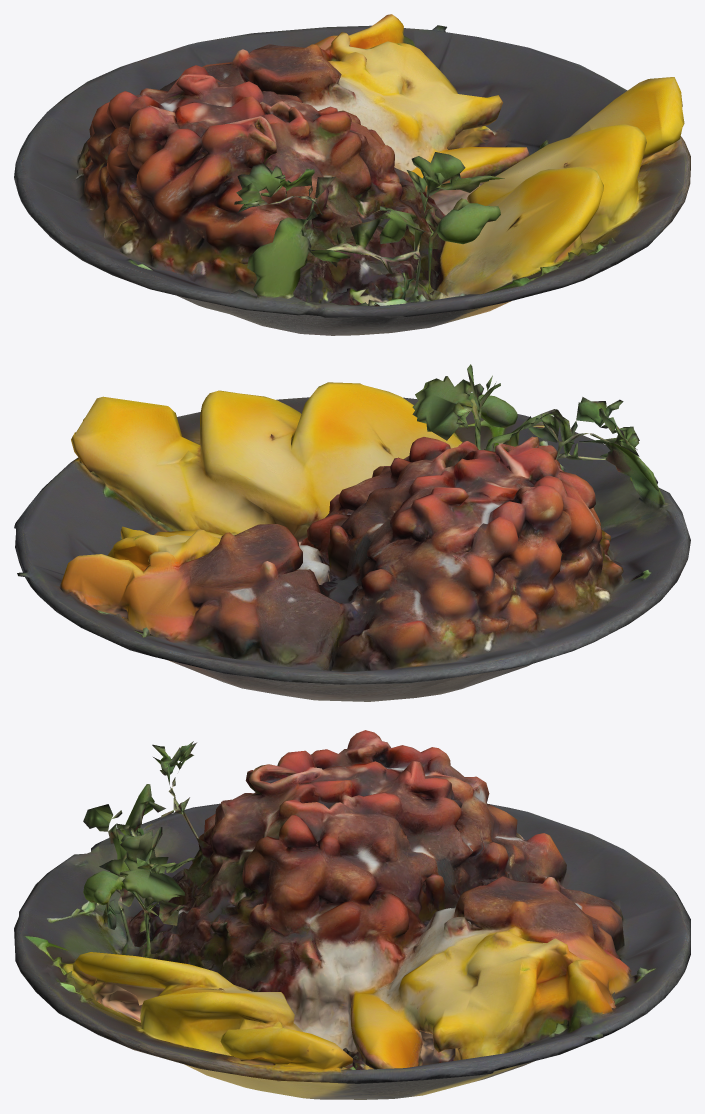
The model's file is plato-tipico.glb.
3 renders of one model, top to bottom at view 1: azimuth 30°, elevation 25°; view 2: azimuth 150°, elevation 25°; view 3: azimuth 270°, elevation 25°, orthographic.
Size of the model in its own units: 2 by 0.6202 by 1.99.
1 material, 1 textured.
